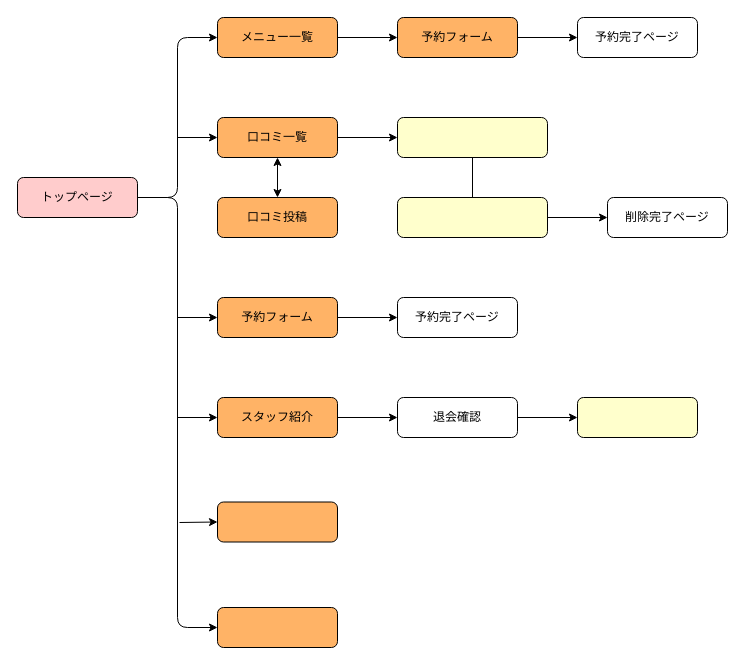
The diagram is 745 pixels wide and 665 high, and some of its shapes have lost their labels. The shapes that lost their labels are listed below. From the top down, each one's centre as x and y in pixels, then its label:
At point 472,137: "クチコミ詳細".
At point 472,217: "スタッフ返信".
At point 637,417: "退会".
At point 277,521: "新規登録".
At point 277,627: "ログイン".
